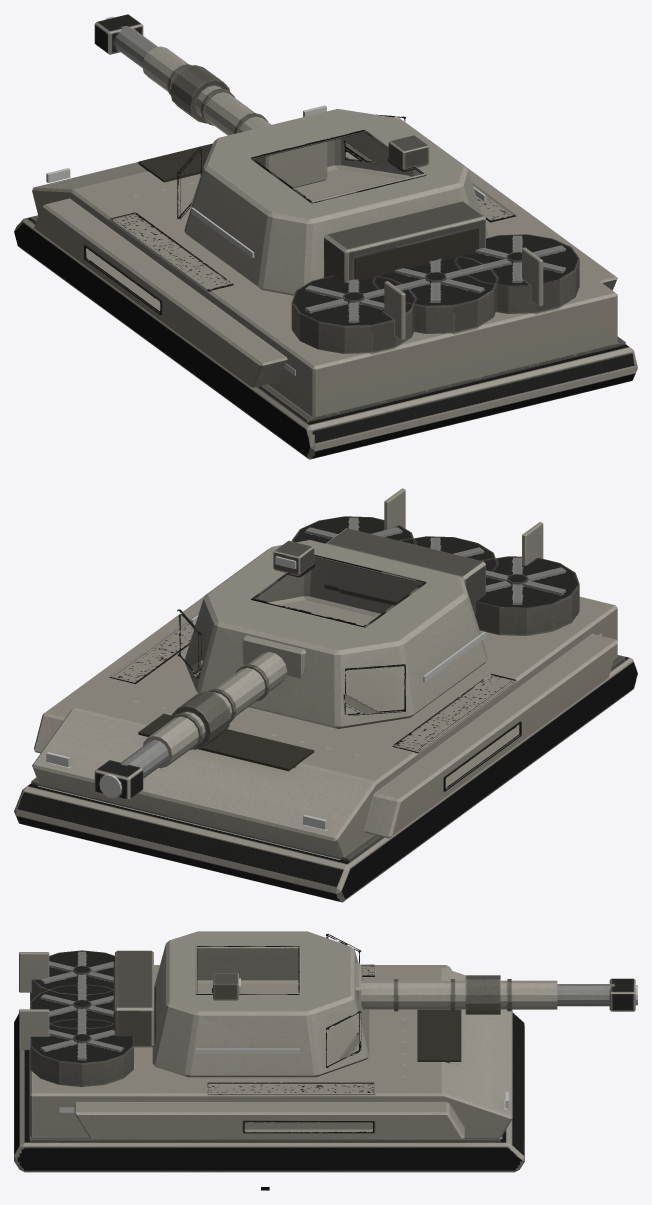
Rendered from ord_tempest.fbx.
3 renders of one model, top to bottom at view 1: azimuth 30°, elevation 25°; view 2: azimuth 150°, elevation 25°; view 3: azimuth 270°, elevation 25°, orthographic. The views are drawn at different scales.
Visible parts, largest first — view 1: base_bar, turret_bar, barrel_bar, fan2_bar, fan1_bar, fan3_bar; view 2: base_bar, turret_bar, barrel_bar, fan1_bar, turret_glow_running_bar; view 3: base_bar, turret_bar, barrel_bar, fan3_bar, fan1_bar, fan2_bar, turret_glow_running_bar.
Boxes of the visible parts, x1,y1,x2,y2 form: base_bar: (14, 118, 637, 459); turret_bar: (177, 109, 487, 295); barrel_bar: (94, 14, 327, 188); fan2_bar: (394, 259, 484, 302); fan1_bar: (305, 279, 402, 322); fan3_bar: (469, 235, 565, 282); base_bar: (14, 488, 637, 902); turret_bar: (177, 528, 487, 728); barrel_bar: (94, 635, 306, 800); fan1_bar: (486, 557, 565, 604); turret_glow_running_bar: (191, 556, 485, 682); base_bar: (14, 950, 524, 1172); turret_bar: (113, 931, 369, 1077); barrel_bar: (355, 963, 635, 1014); fan3_bar: (40, 1020, 123, 1060); fan1_bar: (40, 951, 113, 990); fan2_bar: (40, 990, 113, 1023); turret_glow_running_bar: (195, 978, 299, 1053).
Bounding box in the file's own units: 816 × 592 × 1431.
2 materials, 2 textured.
